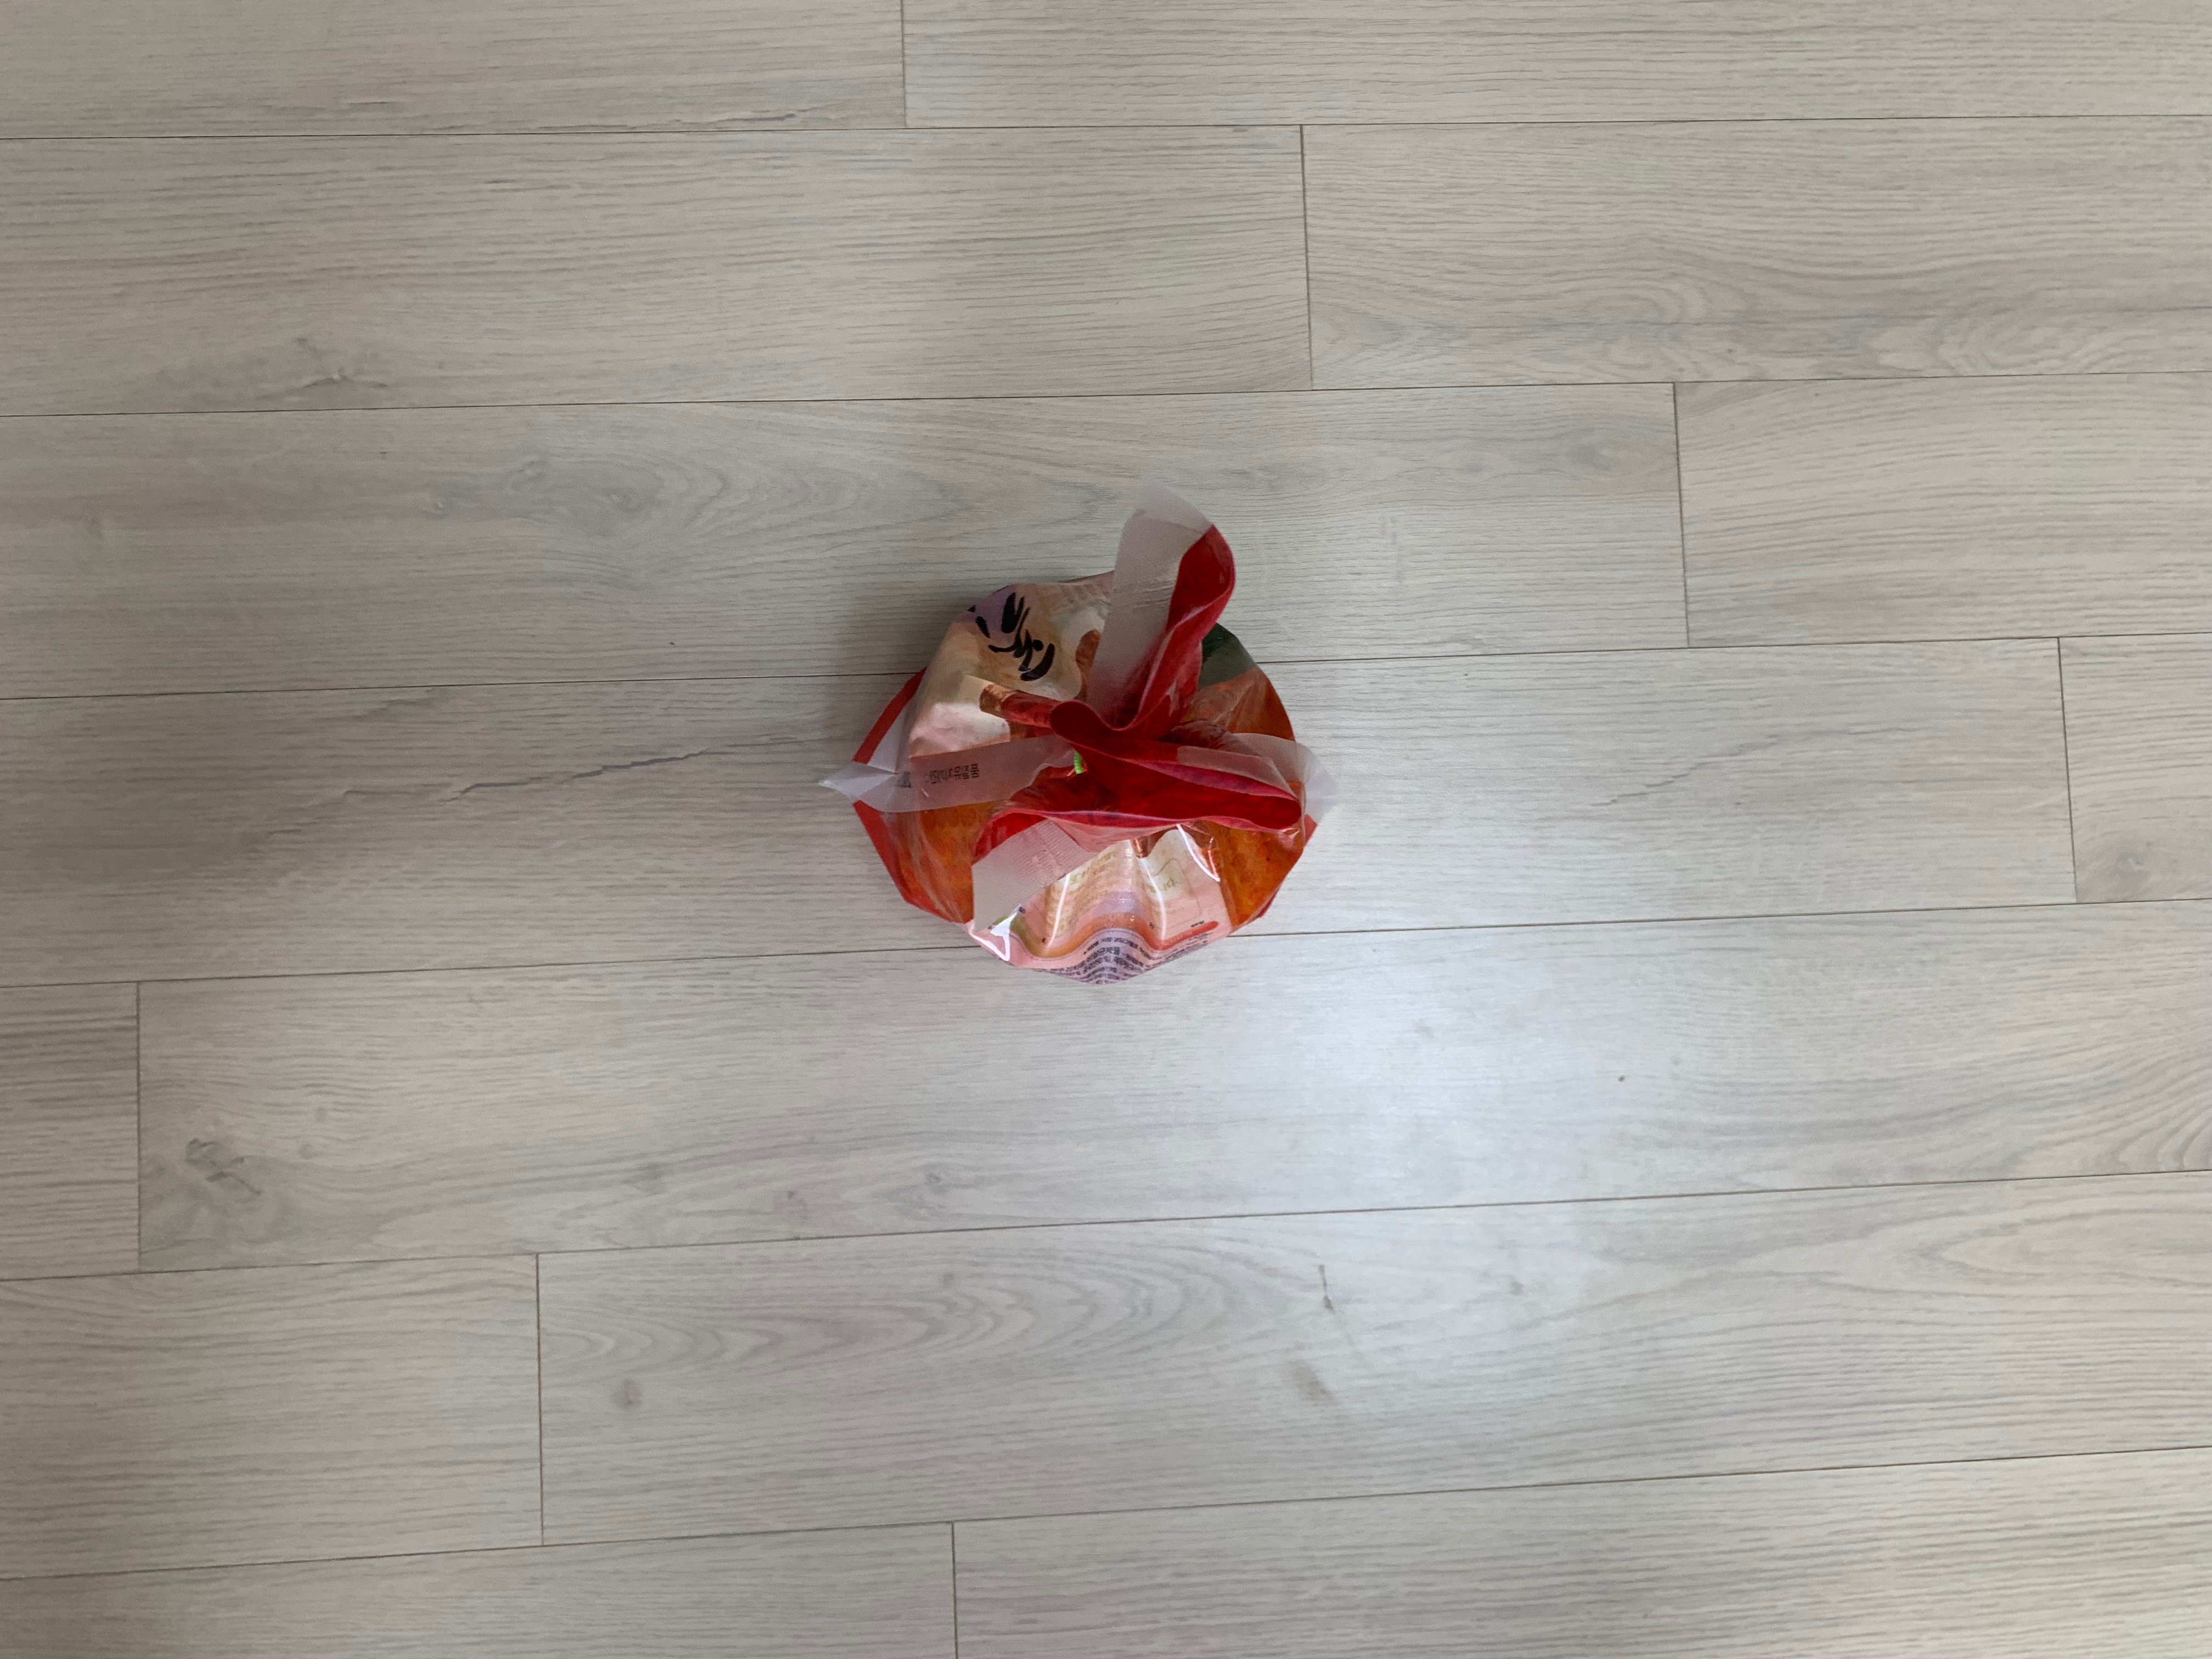kimchi: (853, 532, 1324, 981)
